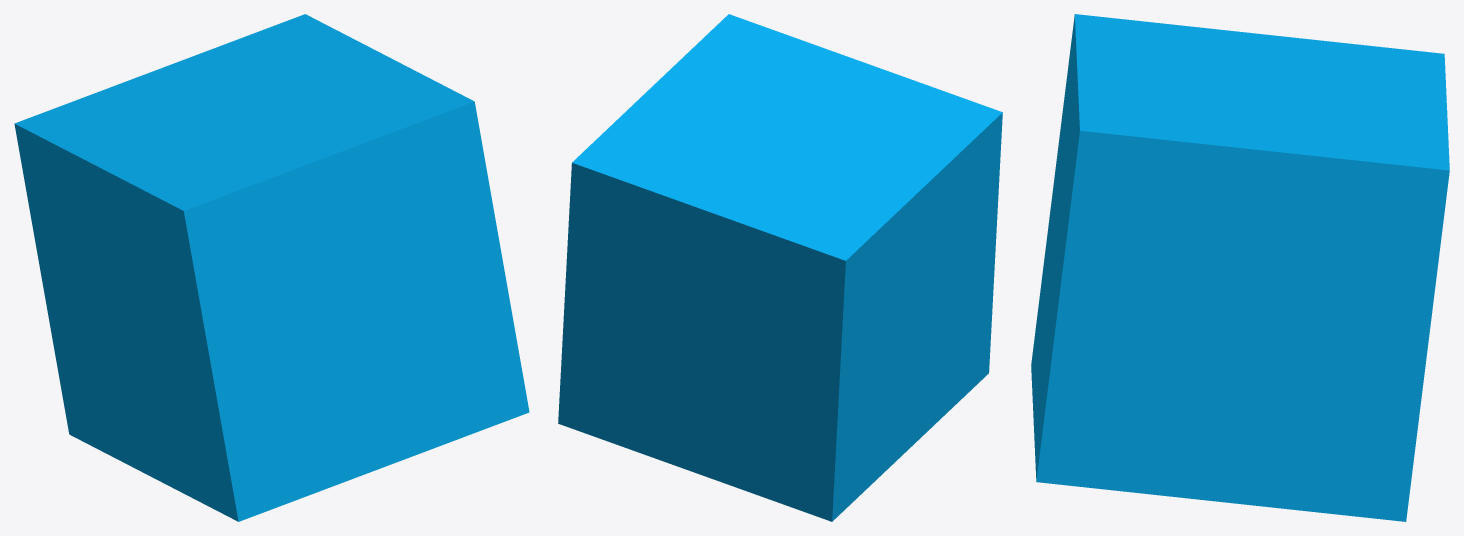
File: whiteroom.glb
3 views of the same model, side by side, from view 1: azimuth 30°, elevation 25°; view 2: azimuth 150°, elevation 25°; view 3: azimuth 270°, elevation 25° (orthographic). The views are drawn at different scales.
Size of the model in its own units: 1.11 by 1.22 by 1.12.
